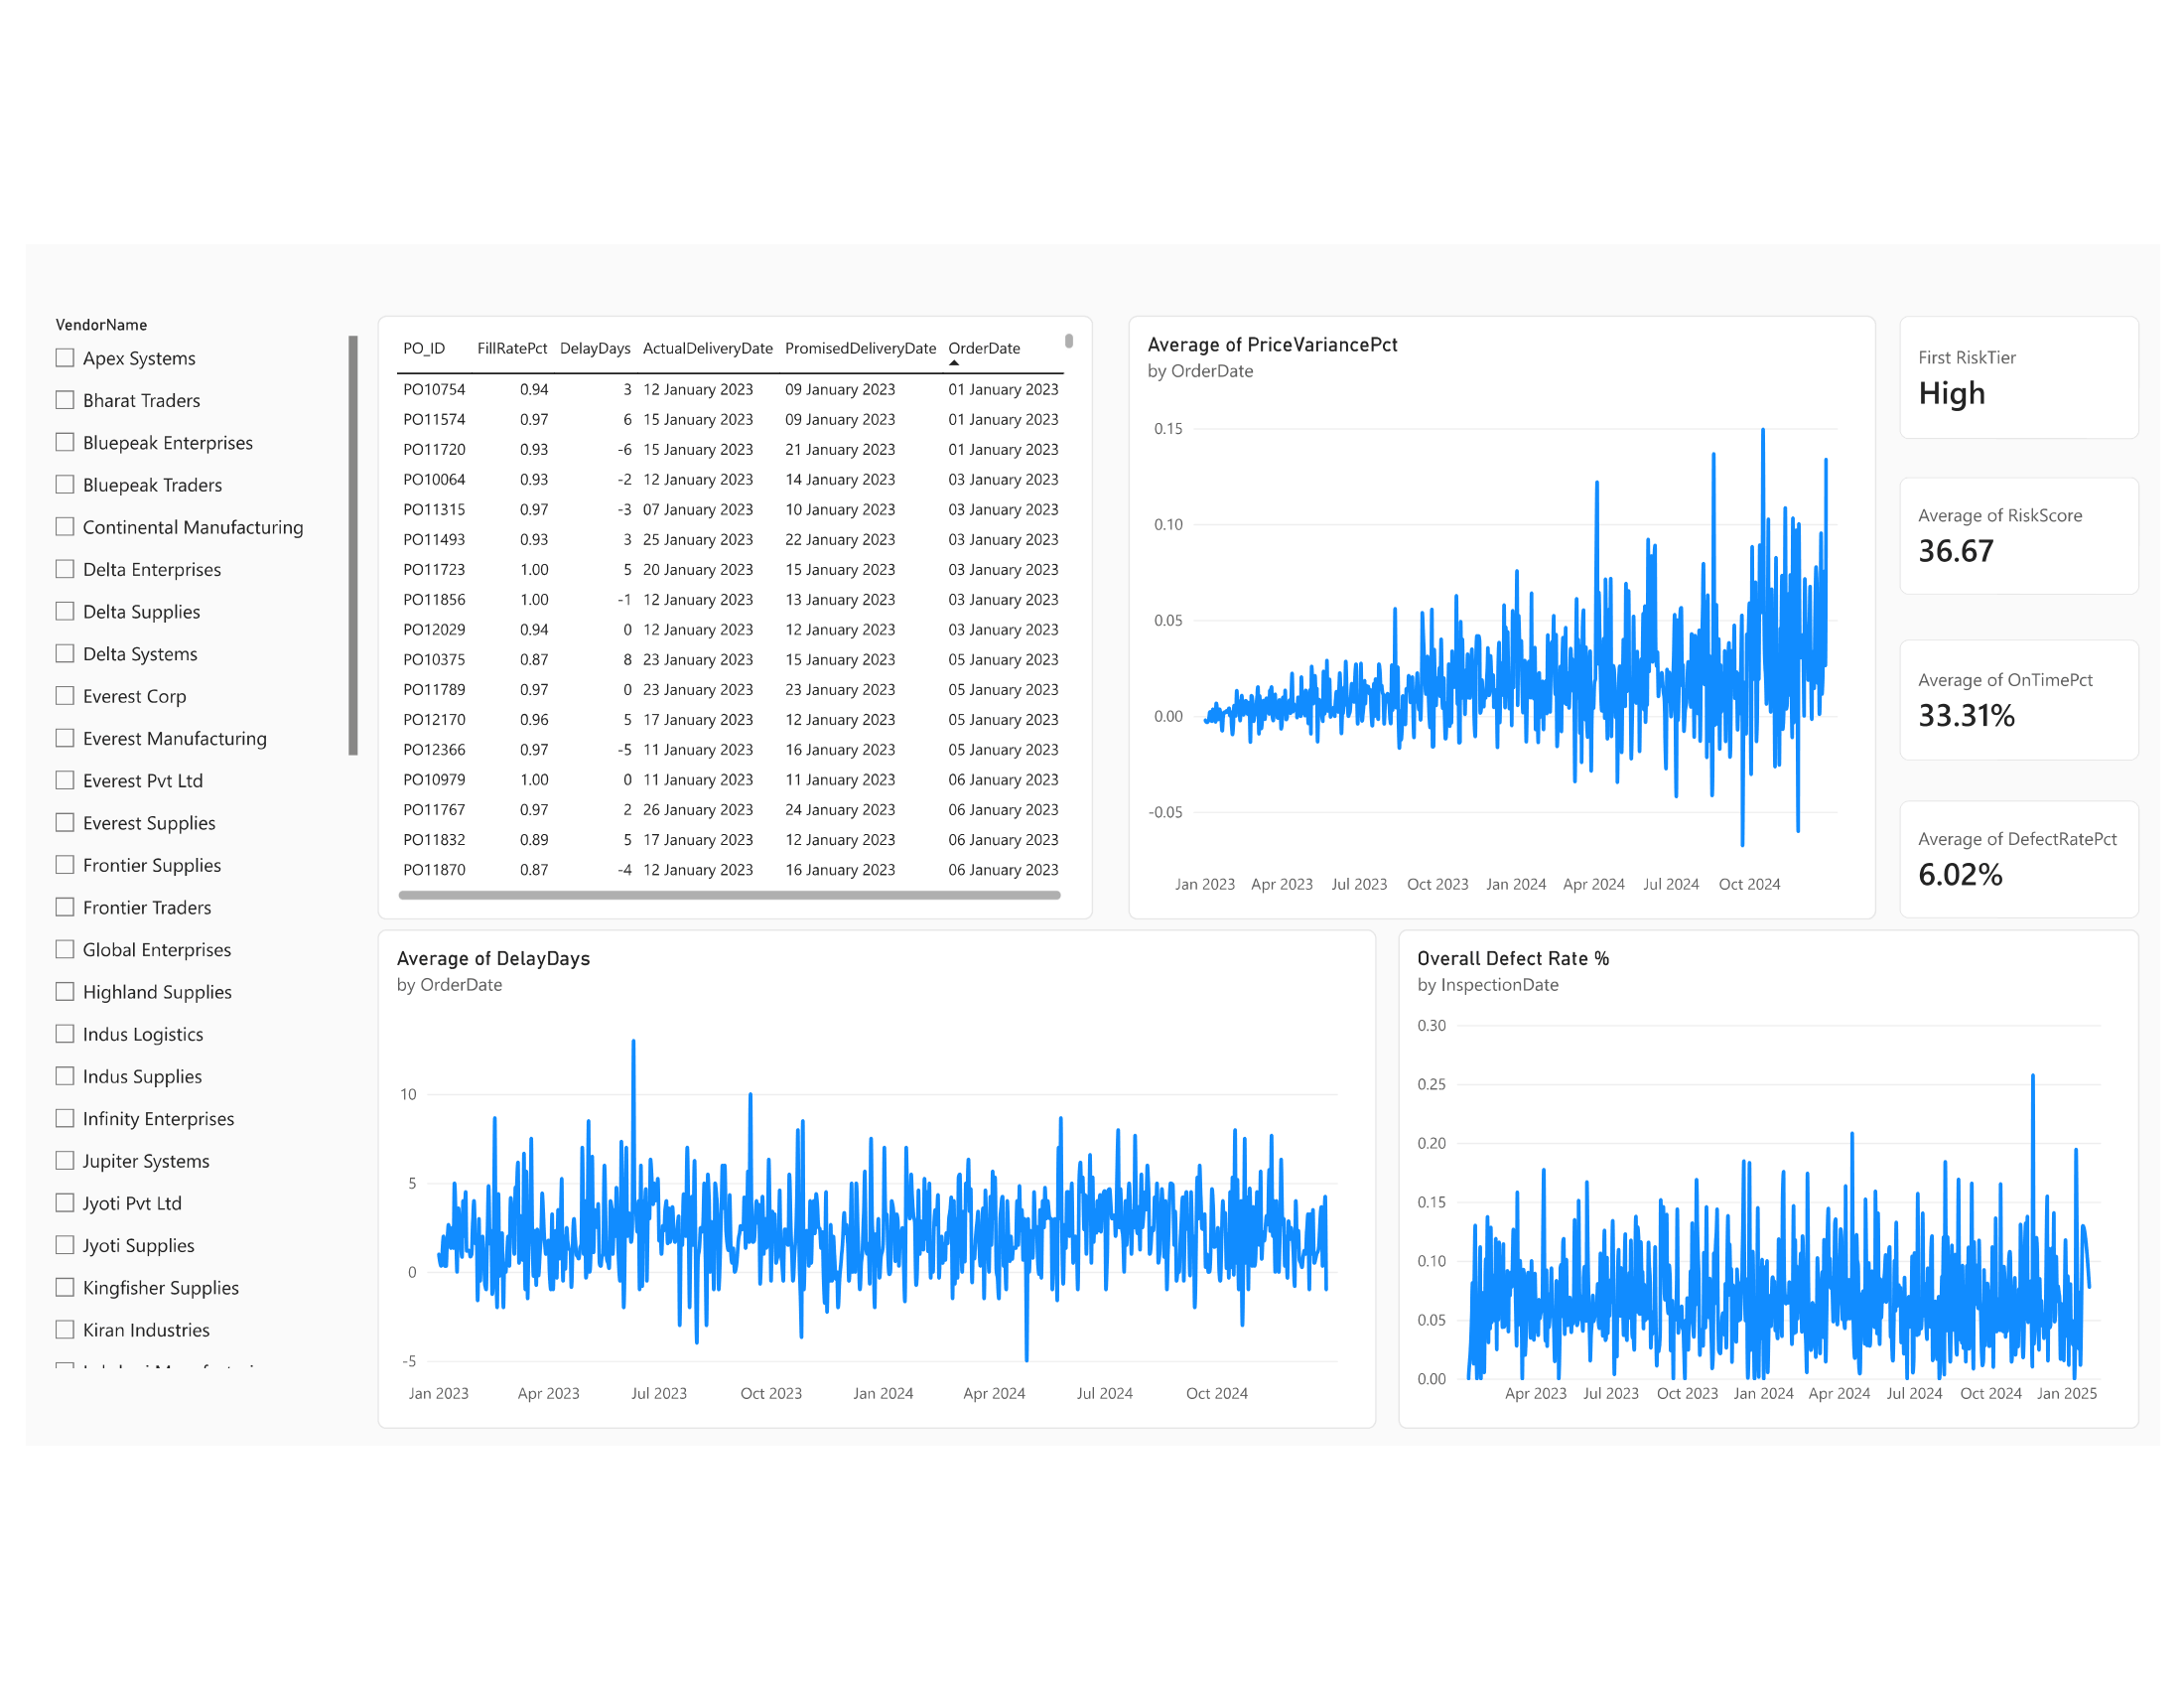

Layout of this report page (visuals, bound fields, positions):
{"tool":"powerbi","page":{"name":"Vendor Drill-Down","canvas":[1920,1080],"ordinal":1},"visuals":[{"type":"slicer","fields":{"Values":["VendorMetrics.VendorName"]},"box":[18.2,63.7,279.8,946.4],"z":0},{"type":"cardVisual","fields":{"Data":["Avg(VendorMetrics.RiskScore)"]},"box":[1685.7,209.3,216.1,106.9],"z":1000},{"type":"cardVisual","fields":{"Data":["Min(VendorMetrics.RiskTier)"]},"box":[1685.7,63.7,216.1,111.5],"z":2000},{"type":"cardVisual","fields":{"Data":["Avg(VendorMetrics.OnTimePct)"]},"box":[1685.7,354.9,216.1,109.2],"z":3000},{"type":"cardVisual","fields":{"Data":["Avg(VendorMetrics.DefectRatePct)"]},"box":[1685.7,500.5,216.1,106.9],"z":4000},{"type":"lineChart","fields":{"Category":["PurchaseOrders.OrderDate"],"Y":["Avg(PurchaseOrders.DelayDays)"]},"box":[316.2,616.5,898.6,448.2],"z":5000},{"type":"lineChart","fields":{"Category":["QualityInspections.InspectionDate"],"Y":["QualityInspections.Overall Defect Rate %"]},"box":[1235.3,616.5,666.5,448.2],"z":6000},{"type":"lineChart","fields":{"Category":["PurchaseOrders.OrderDate"],"Y":["Avg(PurchaseOrders.PriceVariancePct)"]},"box":[991.8,63.7,673.4,543.7],"z":7000},{"type":"tableEx","fields":{"Values":["PurchaseOrders.PO_ID","PurchaseOrders.FillRatePct","PurchaseOrders.DelayDays","PurchaseOrders.ActualDeliveryDate","PurchaseOrders.PromisedDeliveryDate","PurchaseOrders.OrderDate"]},"box":[316.2,63.7,643.8,543.7],"z":8000}]}

Visuals, with their boxes on the page's 1920x1080 design canvas (x1, y1, x2, y2). These are canvas units, not pixel positions in the 2184x1688 screenshot, which may show the page scaled, cropped or inside an application window:
slicer - VendorMetrics.VendorName: (18, 64, 298, 1010)
cardVisual - Avg(VendorMetrics.RiskScore): (1686, 209, 1902, 316)
cardVisual - Min(VendorMetrics.RiskTier): (1686, 64, 1902, 175)
cardVisual - Avg(VendorMetrics.OnTimePct): (1686, 355, 1902, 464)
cardVisual - Avg(VendorMetrics.DefectRatePct): (1686, 500, 1902, 607)
lineChart - PurchaseOrders.OrderDate x Avg(PurchaseOrders.DelayDays): (316, 616, 1215, 1065)
lineChart - QualityInspections.InspectionDate x QualityInspections.Overall Defect Rate %: (1235, 616, 1902, 1065)
lineChart - PurchaseOrders.OrderDate x Avg(PurchaseOrders.PriceVariancePct): (992, 64, 1665, 607)
tableEx - PurchaseOrders.PO_ID x PurchaseOrders.FillRatePct: (316, 64, 960, 607)
